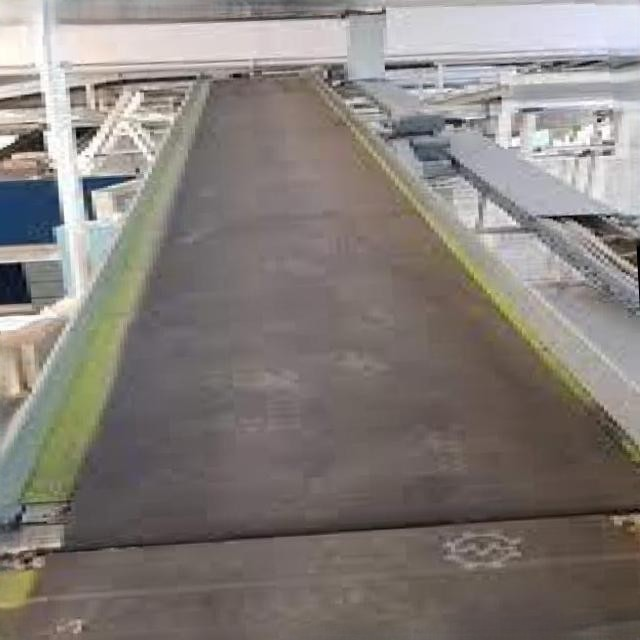Tear: (40, 486, 640, 574)
